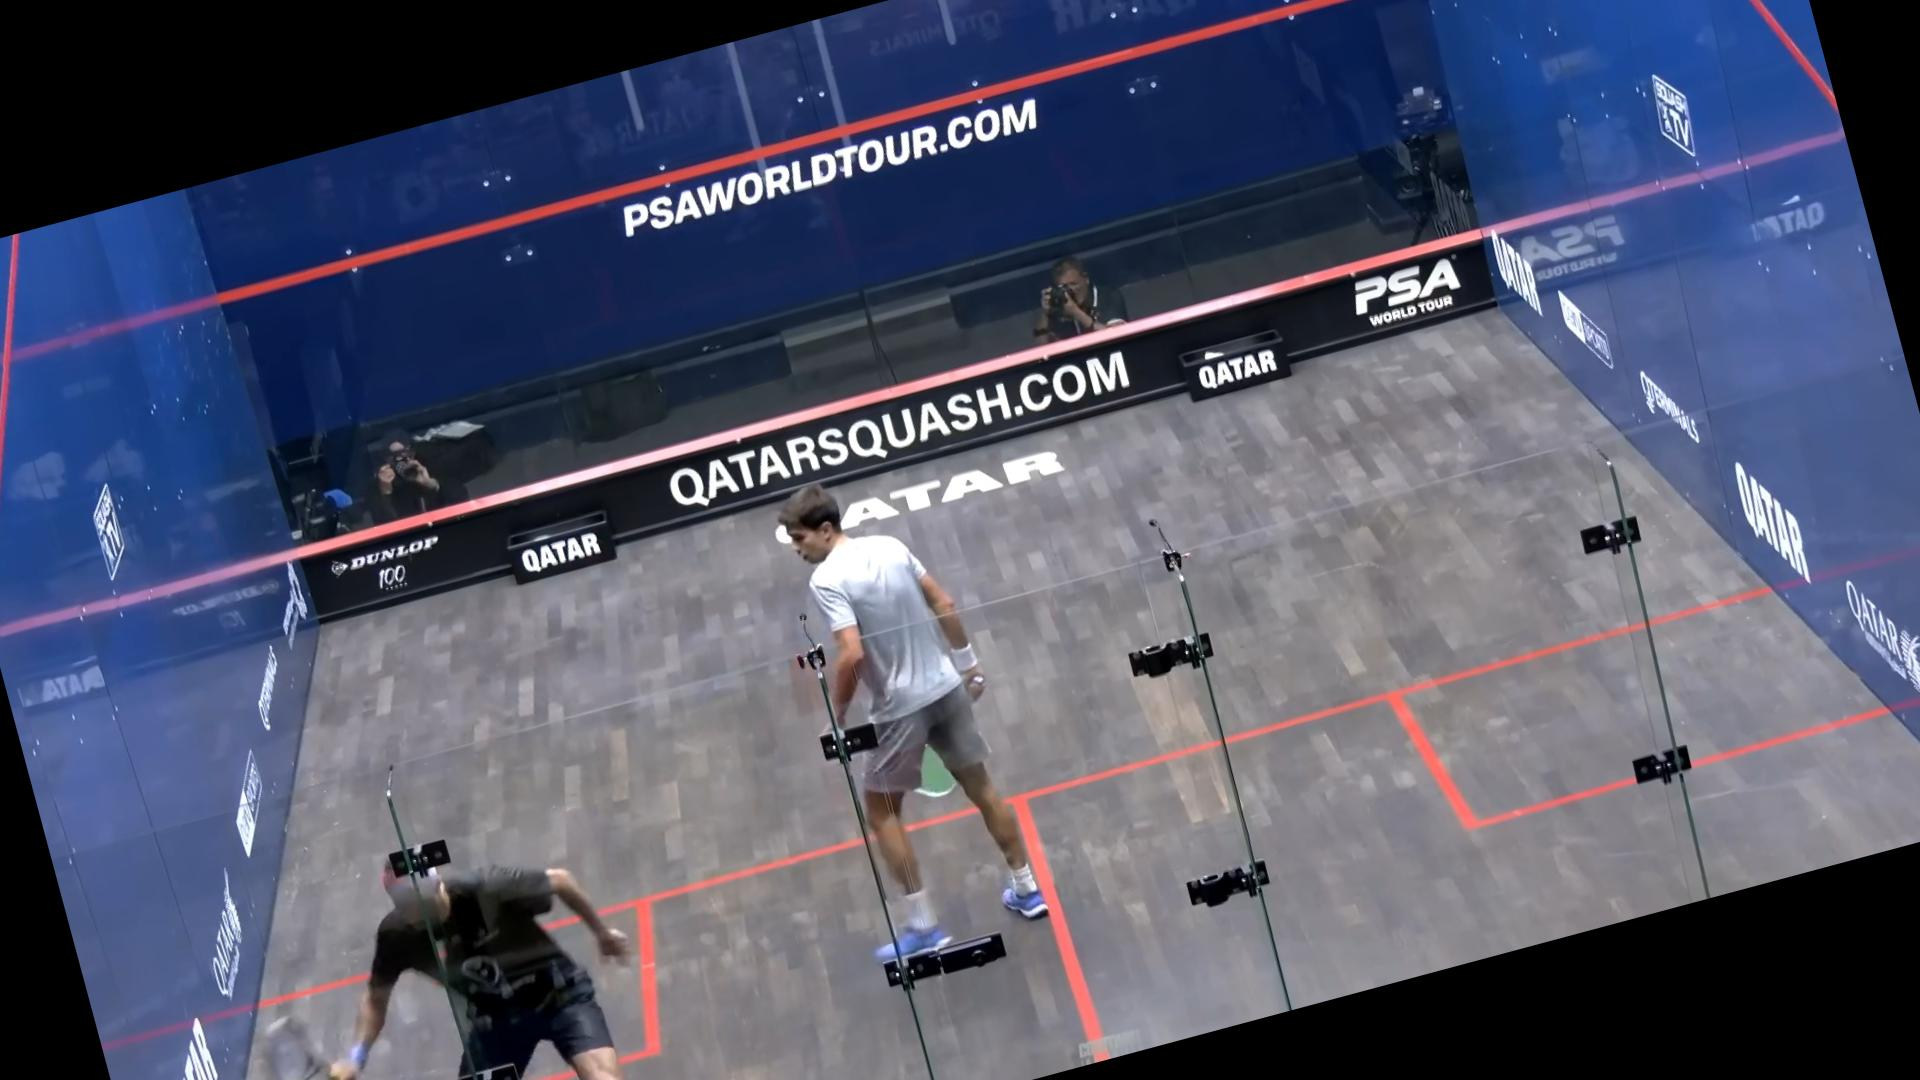Racket: (239, 996, 344, 1080)
